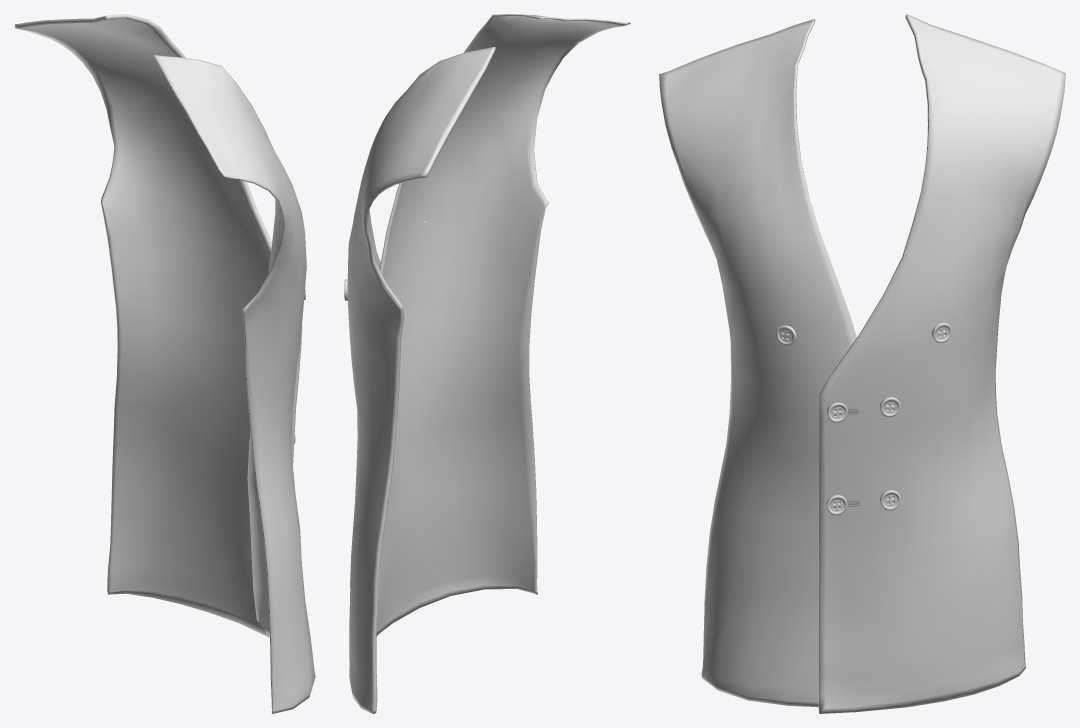
The picture shows the model from 3 angles, left to right: view 1: azimuth 30°, elevation 25°; view 2: azimuth 150°, elevation 25°; view 3: azimuth 270°, elevation 25°; orthographic projection. The views are drawn at different scales.
Visible parts, largest first — view 1: SM_J_FrontB6*2; view 2: SM_J_FrontB6*2; view 3: SM_J_FrontB6*2, SM_J_B_FrontB6*2.
Part boxes in pixels (x1=…): SM_J_FrontB6*2: x1=14, y1=14, x2=315, y2=713; SM_J_FrontB6*2: x1=347, y1=14, x2=630, y2=713; SM_J_FrontB6*2: x1=659, y1=14, x2=1065, y2=713; SM_J_B_FrontB6*2: x1=776, y1=322, x2=952, y2=515.
Bounding box in the file's own units: 1.09 × 4.04 × 2.36.
4 materials, 1 textured.
